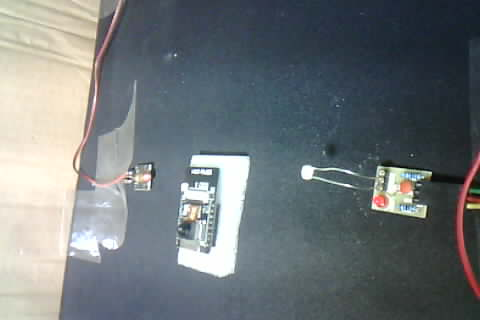esp32: (171, 146, 247, 276)
